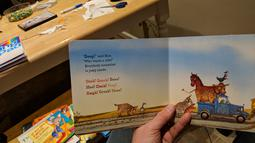text block: (82, 75, 126, 97), (82, 52, 117, 74)
